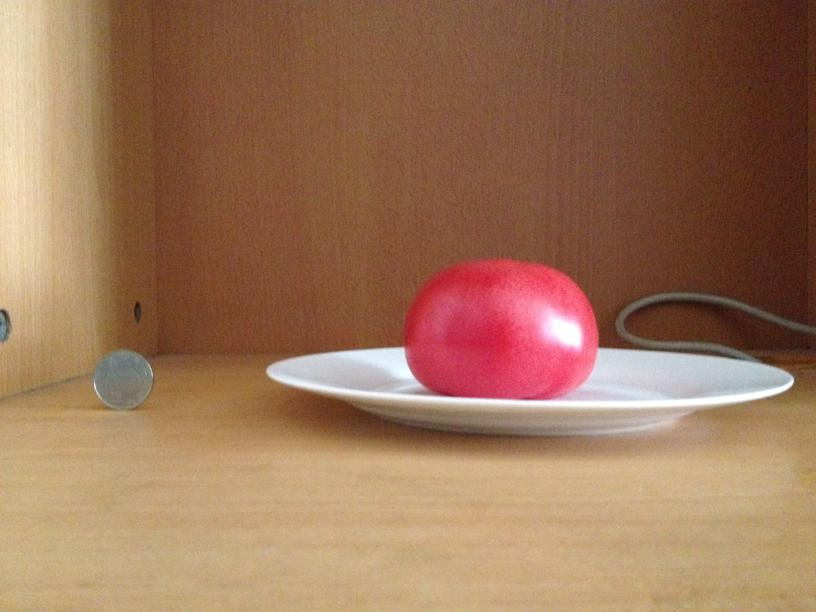coin: (87, 347, 153, 409)
tomato: (119, 373, 178, 434)
